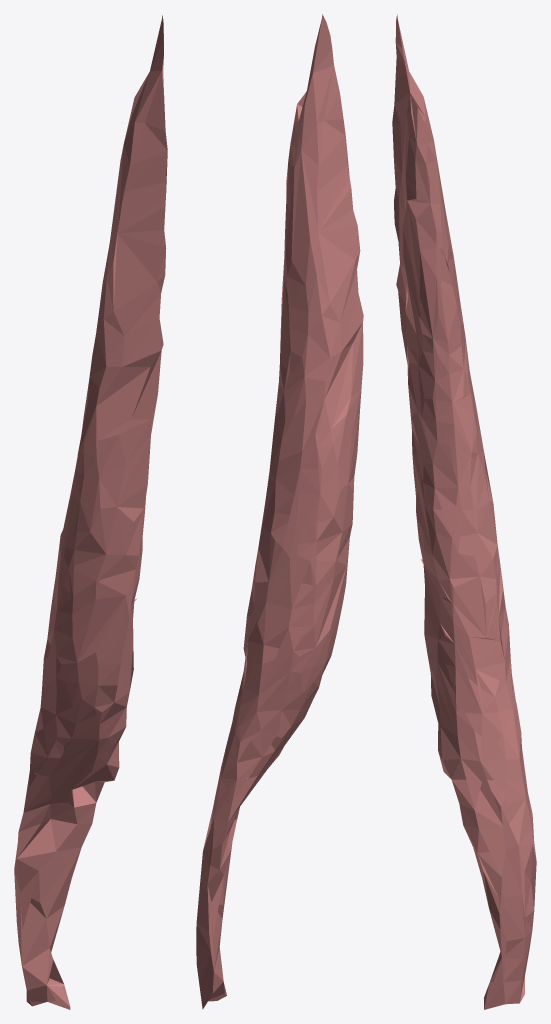
Rendered from Short_head_of_biceps_femoris_muscle.l.glb.
3 views of the same model, side by side, from view 1: azimuth 90°, elevation 25°; view 2: azimuth 150°, elevation 25°; view 3: azimuth 270°, elevation 25° (orthographic). The views are drawn at different scales.
Parts seen in each view (by area): view 1: Short_head_of_biceps_femoris_muscle.l; view 2: Short_head_of_biceps_femoris_muscle.l; view 3: Short_head_of_biceps_femoris_muscle.l.
Boxes of the visible parts, x1,y1,x2,y2 form: Short_head_of_biceps_femoris_muscle.l: [14, 15, 167, 1009]; Short_head_of_biceps_femoris_muscle.l: [196, 14, 363, 1009]; Short_head_of_biceps_femoris_muscle.l: [392, 14, 536, 1009].
Size of the model in its own units: 0.0365 by 0.3003 by 0.0407.
